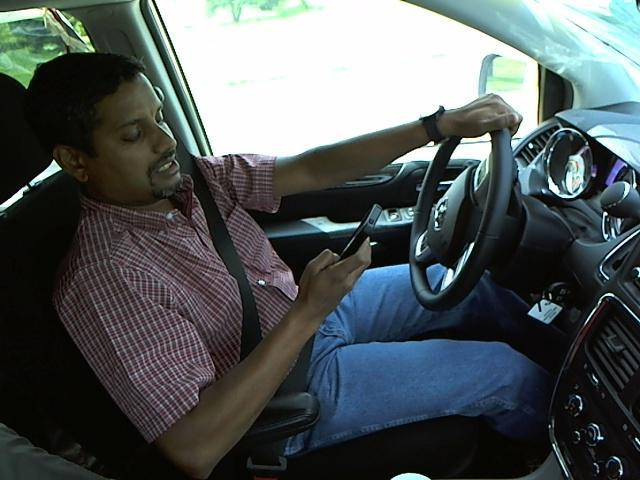c1 - Texting: (22, 49, 522, 403)
